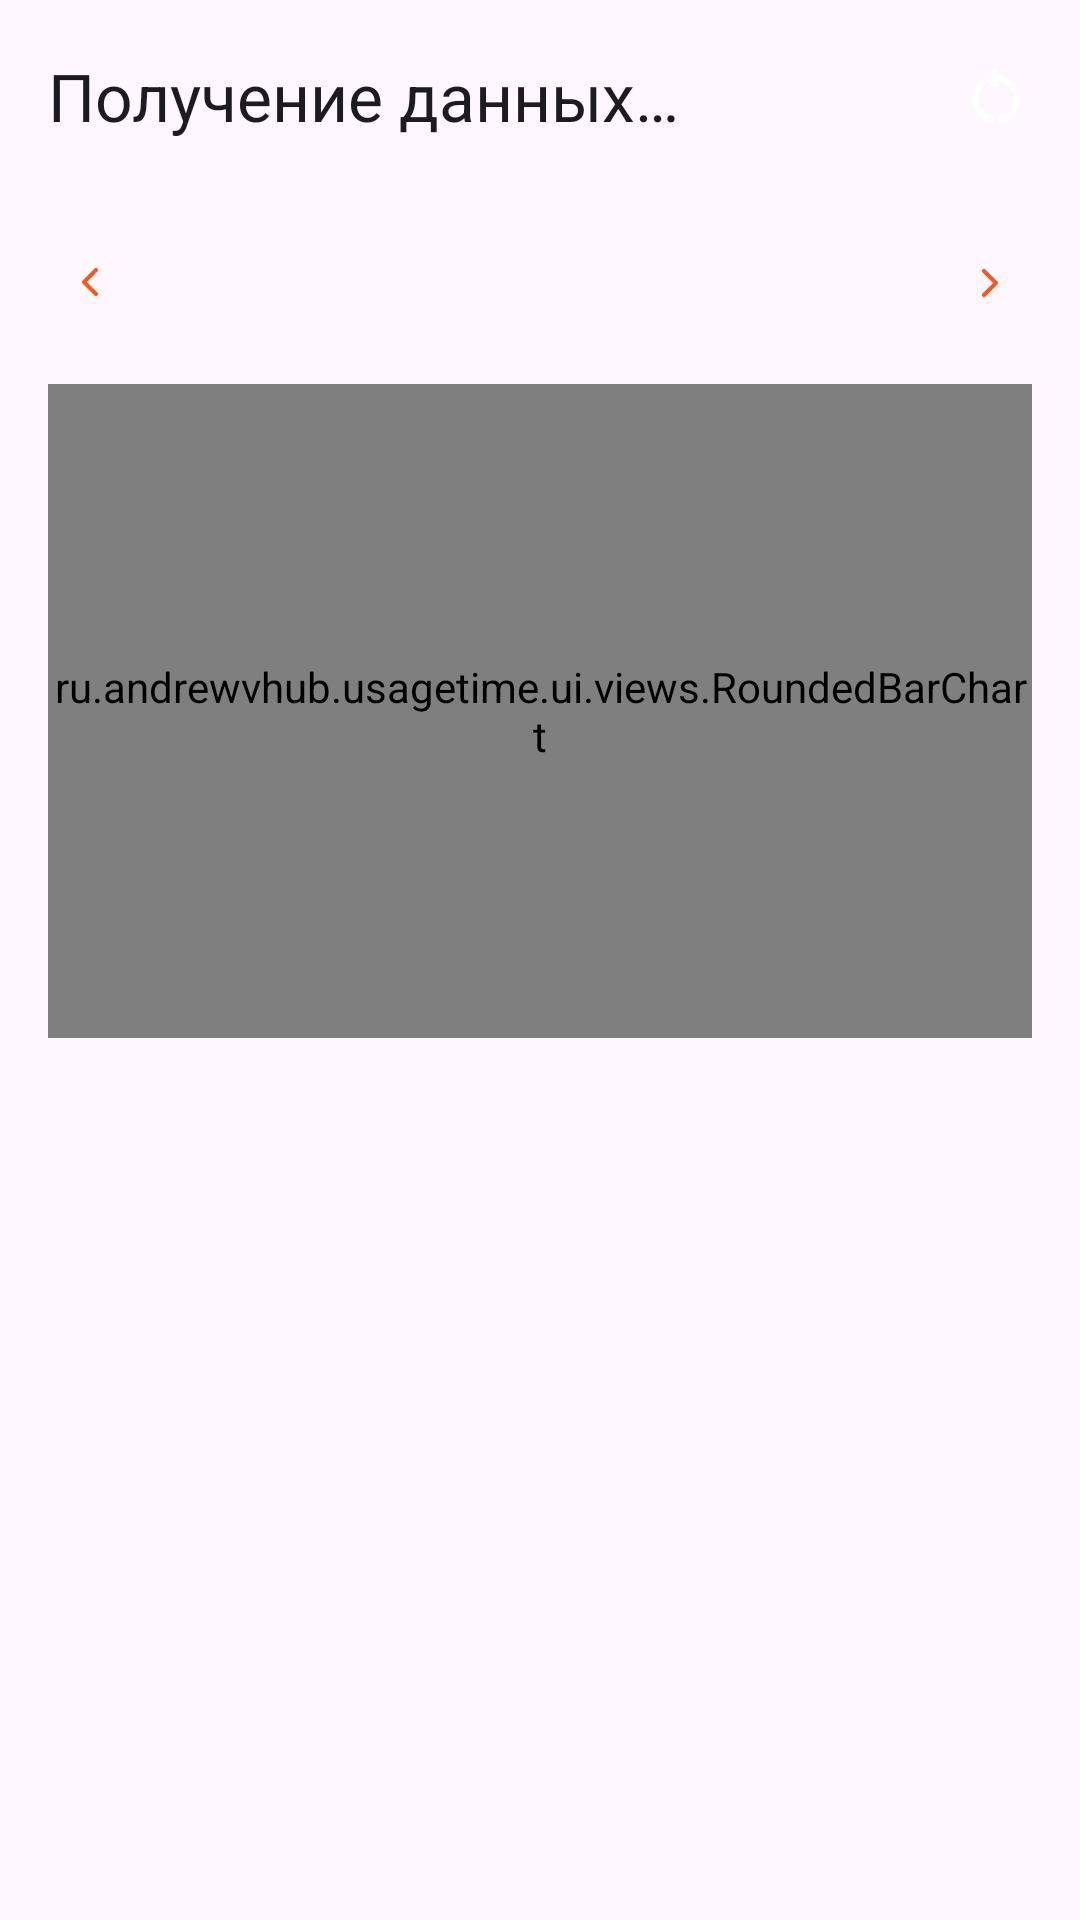

Icons on this 1080×1920 Android screen, each with its box as (x1, y1, x2, y2):
arrow left: (82, 267, 98, 297)
arrow right: (982, 268, 998, 298)
